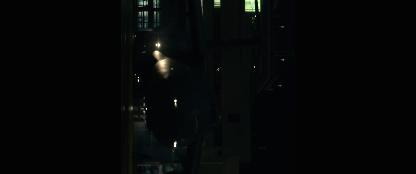C17: (133, 0, 267, 173)
